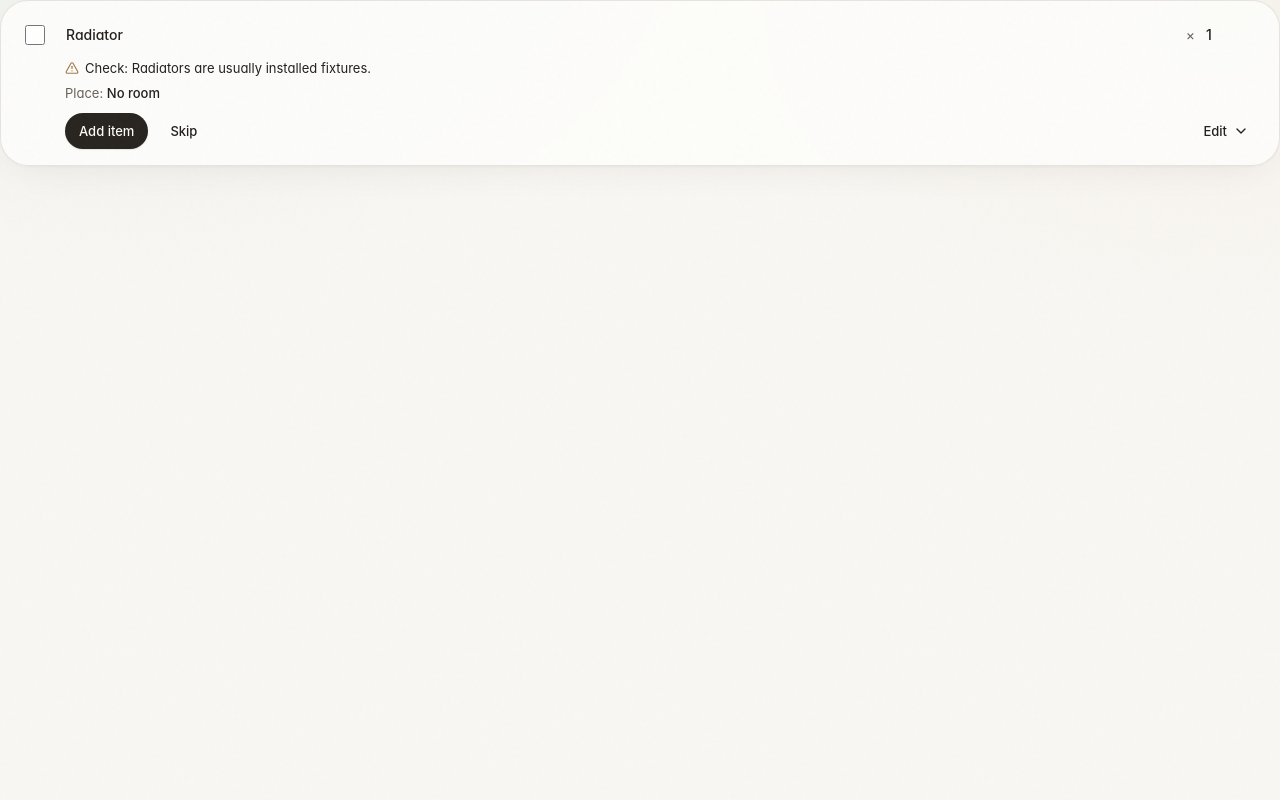
Test: ImportEntryCard closed row › keeps the full reason in the editor when the source text is a caption
Check: the text "Check: Radiators are usually installed fixtures." is shown, box [85,59,371,78]
Click the button "Edit": click(1226, 131) [1189,113,1263,149]
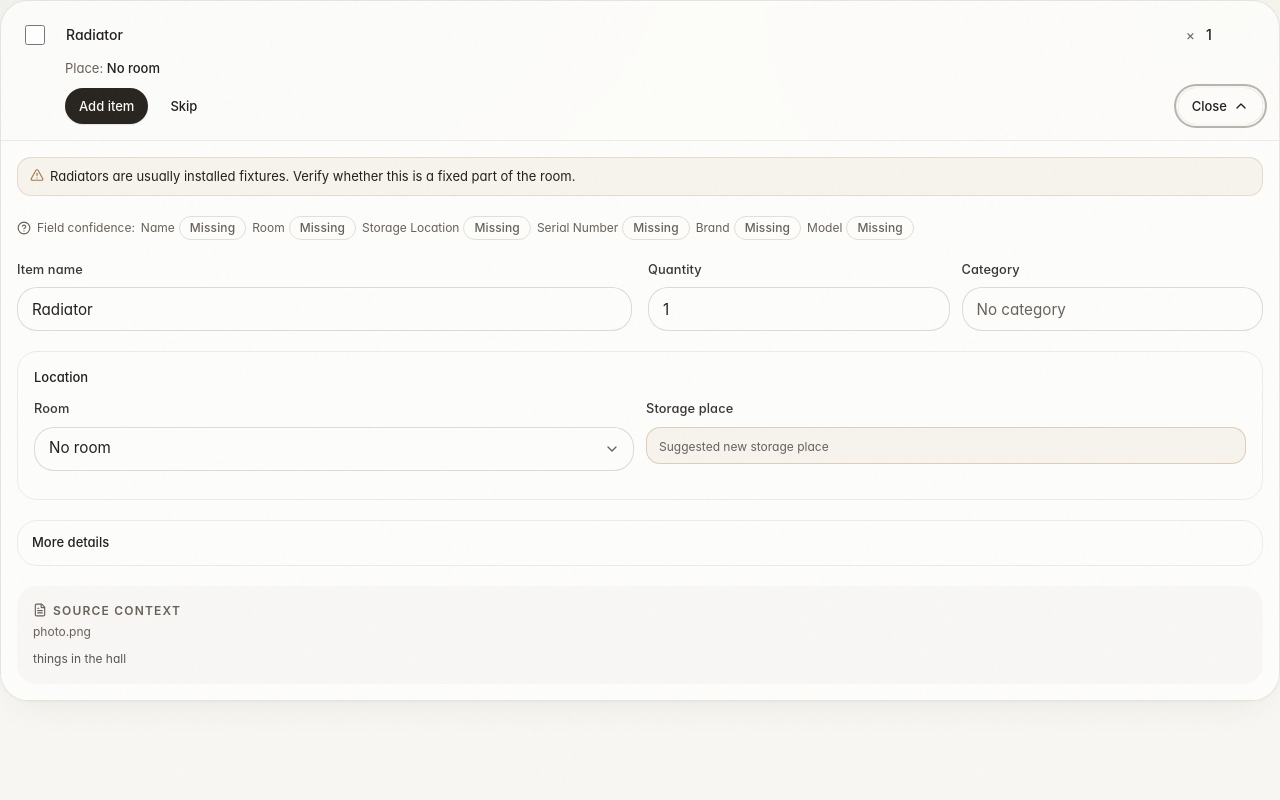
Check: the text "Radiators are usually installed fixtures. Verify whether this is a fixed part of the room." is shown, box [50,168,575,184]
